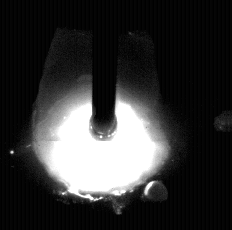arame: (92, 0, 117, 141)
poca: (31, 0, 171, 230)
